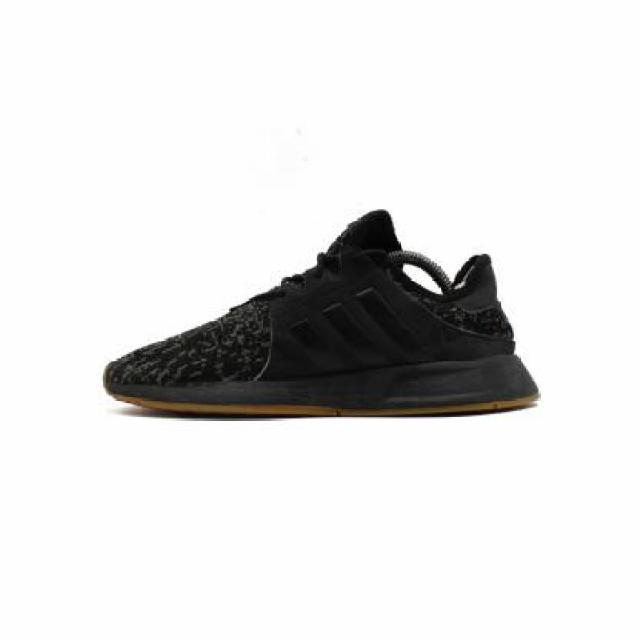Adidas: (283, 281, 426, 396)
